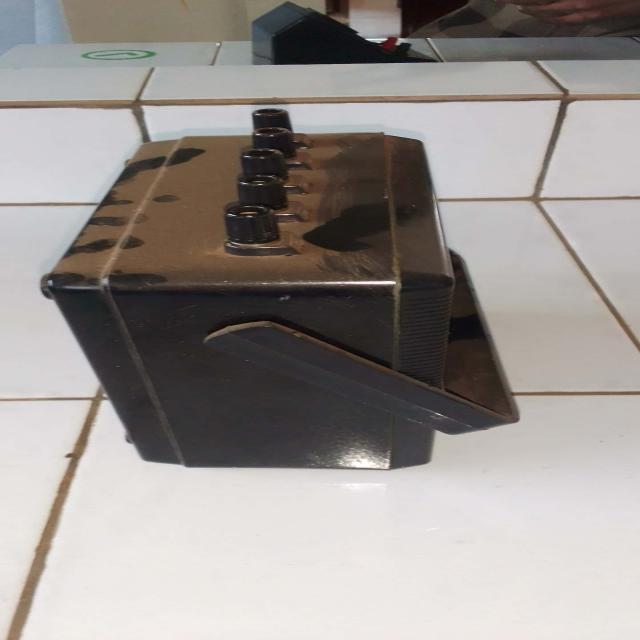Ammeter Analog: (15, 104, 525, 473)
